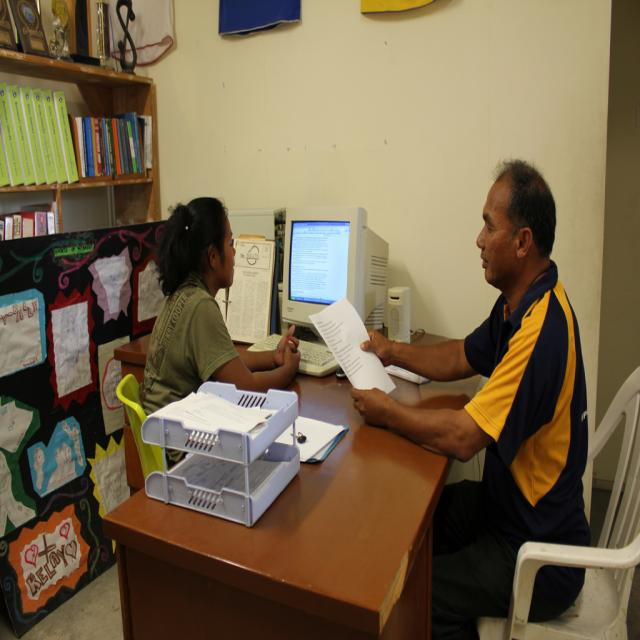chair: (507, 364, 639, 632)
desk: (124, 300, 454, 615)
person: (350, 158, 591, 632), (140, 196, 302, 417)
tv: (281, 204, 390, 336)
